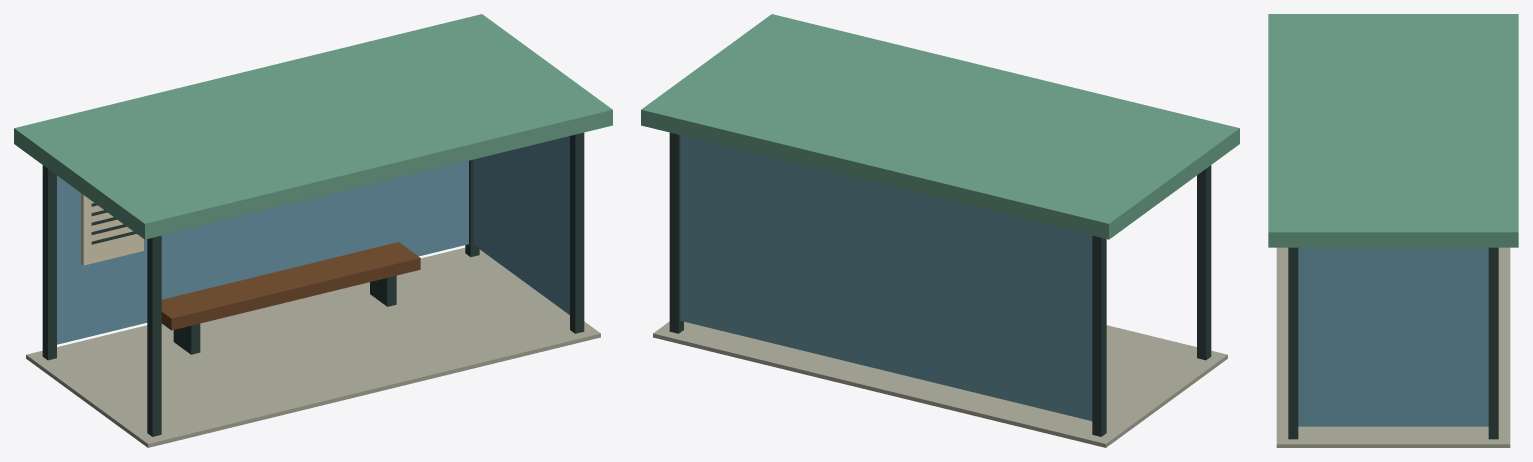
File: BusShelter.obj
3 views of the same model, side by side, from view 1: azimuth 30°, elevation 25°; view 2: azimuth 150°, elevation 25°; view 3: azimuth 270°, elevation 25° (orthographic). The views are drawn at different scales.
Visible parts, largest first — view 1: BusShelter; view 2: BusShelter; view 3: BusShelter.
Boxes of the visible parts, <box> form: BusShelter: <box>14,14,612,447</box>; BusShelter: <box>641,14,1239,447</box>; BusShelter: <box>1268,14,1518,447</box>.
Bounding box in the file's own units: 6.2 × 2.9 × 3.
Materials: 1 (1 with a texture image).
